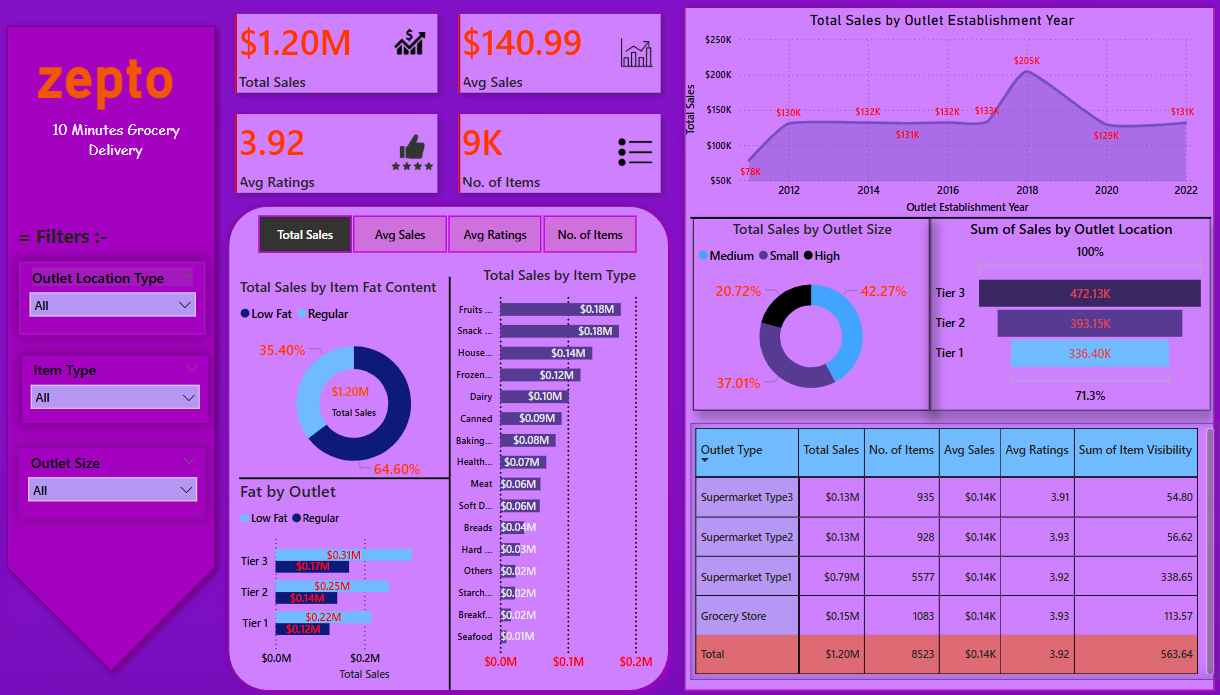

This screenshot's page, from the dashboard's own definition file:
{"tool":"powerbi","page":{"name":"Page 1","canvas":[1400,800],"ordinal":0},"visuals":[{"type":"shape","box":[1.3,22.8,256,756],"z":0},{"type":"textbox","box":[38.9,46.9,179.6,107.2],"z":1000},{"type":"textbox","box":[17.4,134,222.5,61.7],"z":2000},{"type":"cardVisual","fields":{"Data":["BlinkIT Grocery Data.Total Sales","BlinkIT Grocery Data.Avg Sales","BlinkIT Grocery Data.Avg Ratings","BlinkIT Grocery Data.No. of  Items"]},"box":[254.7,1.3,521.5,239.9],"z":3000},{"type":"shape","box":[254.7,227.9,521.5,572.4],"z":4000},{"type":"donutChart","fields":{"Y":["Blinkit Grocery Data.Total Sales"],"Category":["BlinkIT Grocery Data.Item Fat Content"]},"box":[272.1,319,270.8,238.6],"z":5000},{"type":"slicer","fields":{"Values":["Metrics.Metrics"]},"box":[272.1,241.3,482.6,56.3],"z":6000},{"type":"cardVisual","fields":{"Data":["Blinkit Grocery Data.Total Sales"]},"box":[364.6,420.9,105.9,77.7],"z":7000},{"type":"clusteredBarChart","title":"Fat by Outlet","fields":{"Y":["Blinkit Grocery Data.Total Sales"],"Category":["BlinkIT Grocery Data.Outlet Location Type"],"Series":["BlinkIT Grocery Data.Item Fat Content"]},"box":[272.1,549.6,270.8,235.9],"z":8000},{"type":"shape","box":[502.7,319,26.8,471.9],"z":9000},{"type":"shape","box":[276.1,542.9,239.9,12.1],"z":10000},{"type":"barChart","fields":{"Y":["Blinkit Grocery Data.Total Sales"],"Category":["BlinkIT Grocery Data.Item Type"]},"box":[506.7,304.3,269.4,474.5],"z":11000},{"type":"shape","box":[776.1,1.3,623.3,798.9],"z":12000},{"type":"lineChart","fields":{"Y":["BlinkIT Grocery Data.Total Sales"],"Category":["BlinkIT Grocery Data.Outlet Establishment Year"]},"box":[781.5,14.7,595.2,237.3],"z":13000},{"type":"shape","box":[790.9,237.3,595.2,28.2],"z":14000},{"type":"donutChart","fields":{"Y":["BlinkIT Grocery Data.Total Sales"],"Category":["BlinkIT Grocery Data.Outlet Size"]},"box":[794.9,252,270.8,219.8],"z":15000},{"type":"funnel","title":"Sum of Sales by Outlet Location","fields":{"Y":["Sum(BlinkIT Grocery Data.Sales)"],"Category":["BlinkIT Grocery Data.Outlet Location Type"]},"box":[1065.7,252,320.4,219.8],"z":16000},{"type":"pivotTable","fields":{"Rows":["BlinkIT Grocery Data.Outlet Type"],"Values":["BlinkIT Grocery Data.Total Sales","BlinkIT Grocery Data.No. of  Items","BlinkIT Grocery Data.Avg Sales","BlinkIT Grocery Data.Avg Ratings","Sum(BlinkIT Grocery Data.Item Visibility)"]},"box":[790.9,485.3,604.6,293.6],"z":17000},{"type":"slicer","fields":{"Values":["BlinkIT Grocery Data.Outlet Location Type"]},"box":[24.1,301.6,213.1,83.1],"z":18000},{"type":"slicer","fields":{"Values":["BlinkIT Grocery Data.Outlet Size"]},"box":[24.1,514.7,213.1,80.4],"z":19000},{"type":"slicer","fields":{"Values":["BlinkIT Grocery Data.Item Type"]},"box":[26.8,408.8,213.1,76.4],"z":20000},{"type":"textbox","box":[17.4,252,127.3,45.6],"z":21000}]}

Visuals, with their boxes in screenshot pixels (x1, y1, x2, y2), scaled from the page's 1400x800 canvas onto the 1220x695 screenshot:
shape: 1:20:224:677
textbox: 34:41:190:134
textbox: 15:116:209:170
cardVisual - BlinkIT Grocery Data.Total Sales x BlinkIT Grocery Data.Avg Sales: 222:1:676:210
shape: 222:198:676:694
donutChart - Blinkit Grocery Data.Total Sales x BlinkIT Grocery Data.Item Fat Content: 237:277:473:484
slicer - Metrics.Metrics: 237:210:658:259
cardVisual - Blinkit Grocery Data.Total Sales: 318:366:410:433
"Fat by Outlet" clusteredBarChart: 237:477:473:682
shape: 438:277:461:687
shape: 241:472:450:482
barChart - Blinkit Grocery Data.Total Sales x BlinkIT Grocery Data.Item Type: 442:264:676:677
shape: 676:1:1219:694
lineChart - BlinkIT Grocery Data.Total Sales x BlinkIT Grocery Data.Outlet Establishment Year: 681:13:1200:219
shape: 689:206:1208:231
donutChart - BlinkIT Grocery Data.Total Sales x BlinkIT Grocery Data.Outlet Size: 693:219:929:410
"Sum of Sales by Outlet Location" funnel: 929:219:1208:410
pivotTable - BlinkIT Grocery Data.Outlet Type x BlinkIT Grocery Data.Total Sales: 689:422:1216:677
slicer - BlinkIT Grocery Data.Outlet Location Type: 21:262:207:334
slicer - BlinkIT Grocery Data.Outlet Size: 21:447:207:517
slicer - BlinkIT Grocery Data.Item Type: 23:355:209:422
textbox: 15:219:126:259
